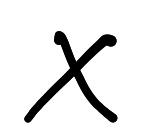mult: (24, 31, 118, 123)
